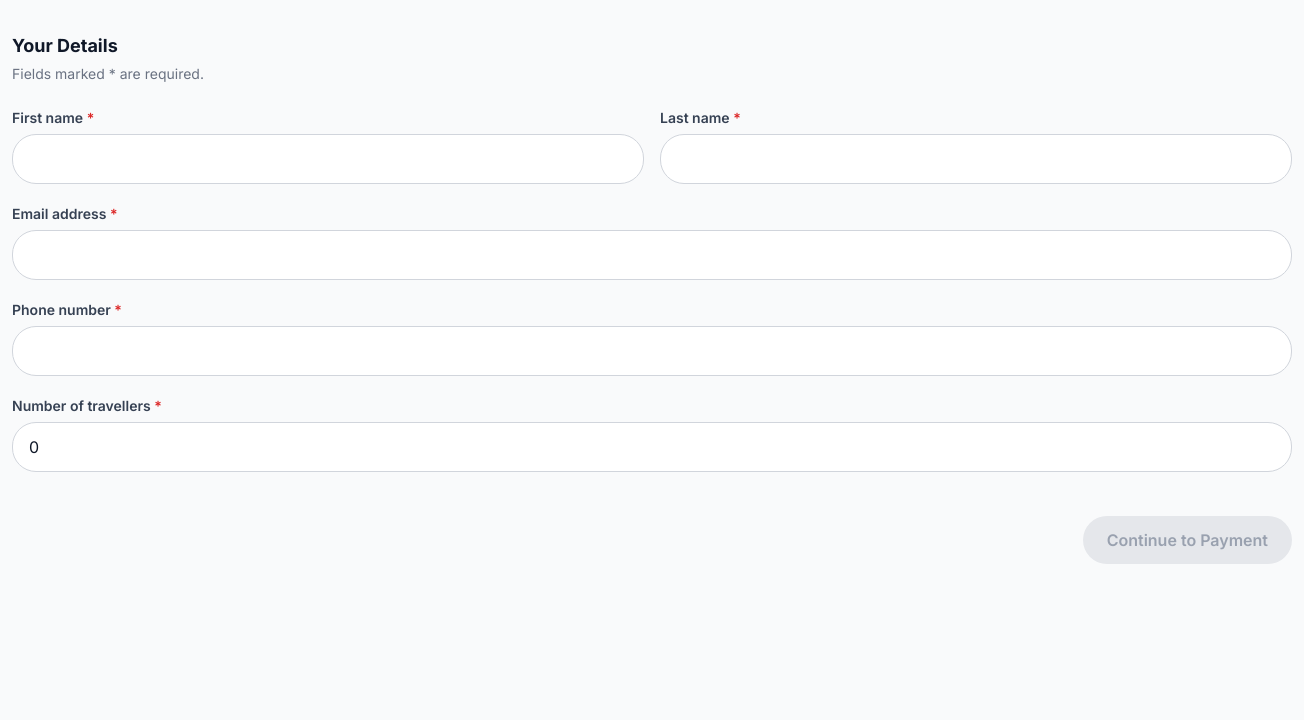
Scenario: TravellerForm › Validation errors — invalid values (button enabled, Zod fires on submit) › shows a phone format error for a too-short number string
Type "Jane" into the field labelled "First name *". click: (328, 159)
box: [12, 134, 644, 184]
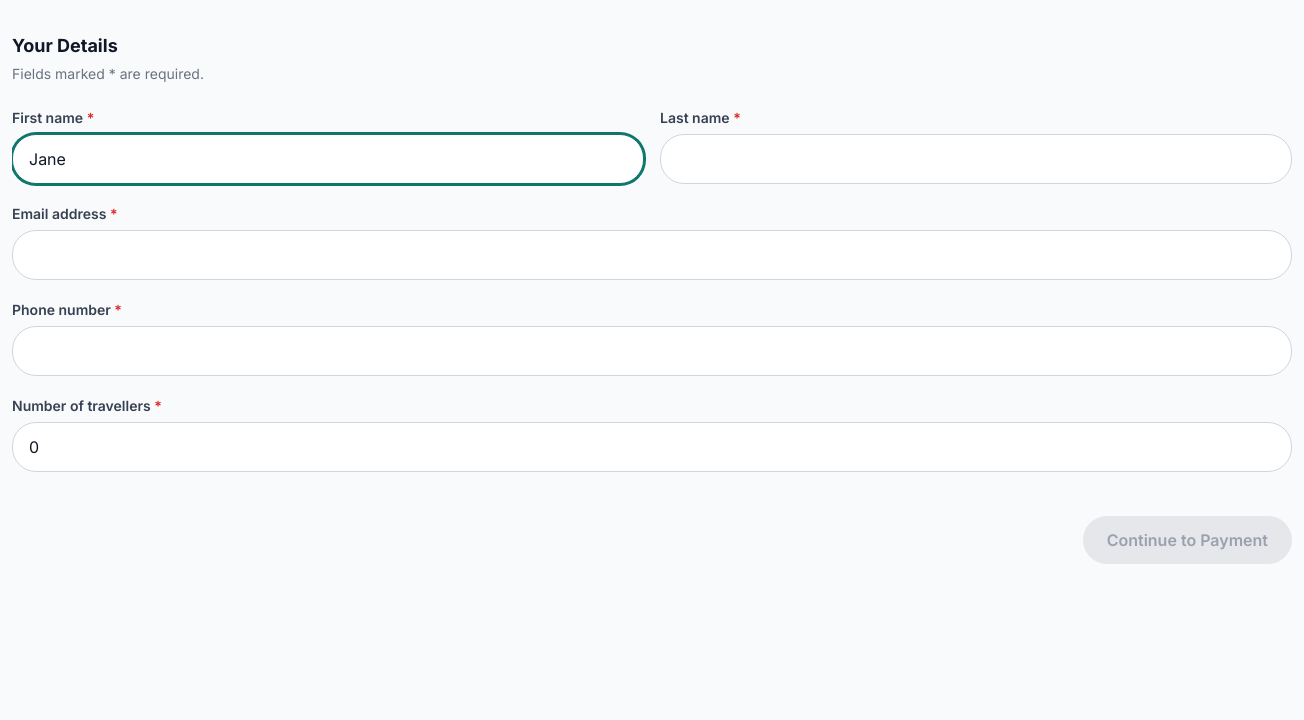
Type "Smith" into the field labelled "Last name *". click: (976, 159)
box: [660, 134, 1292, 184]
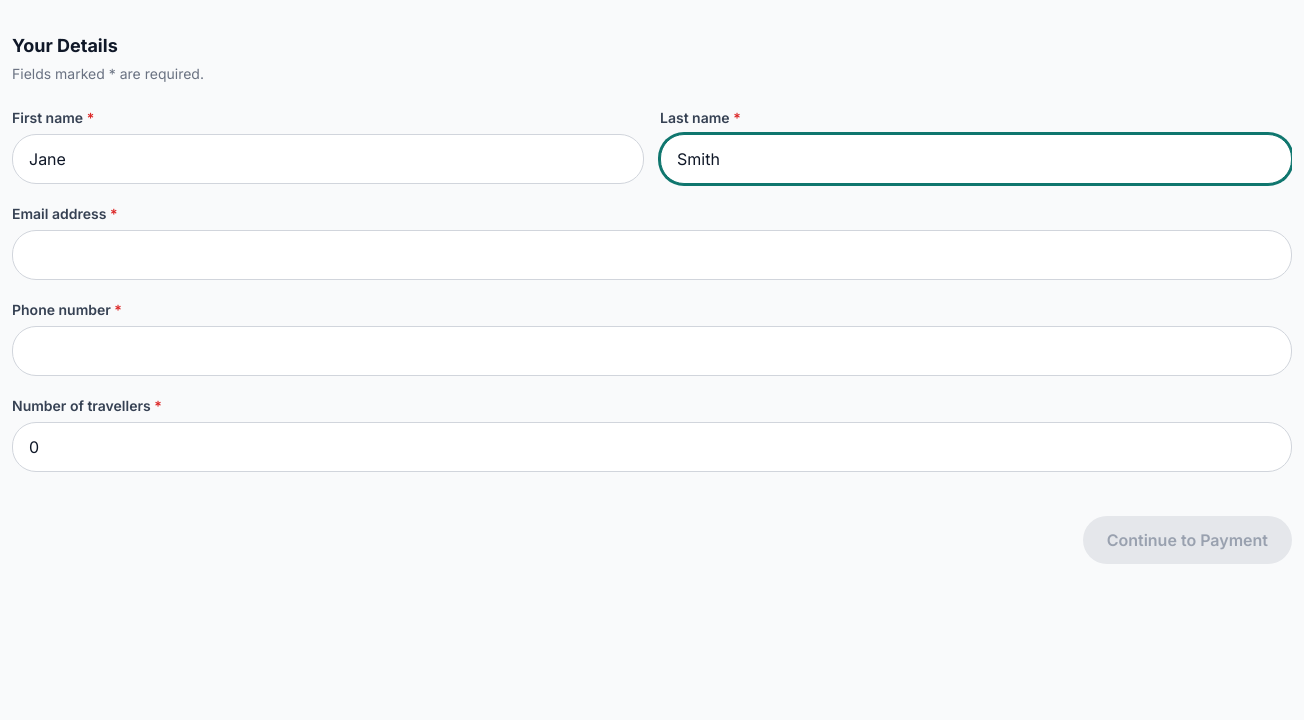
Type "jane@example.com" into the field labelled "Email address *". click: (652, 255)
box: [12, 230, 1292, 280]
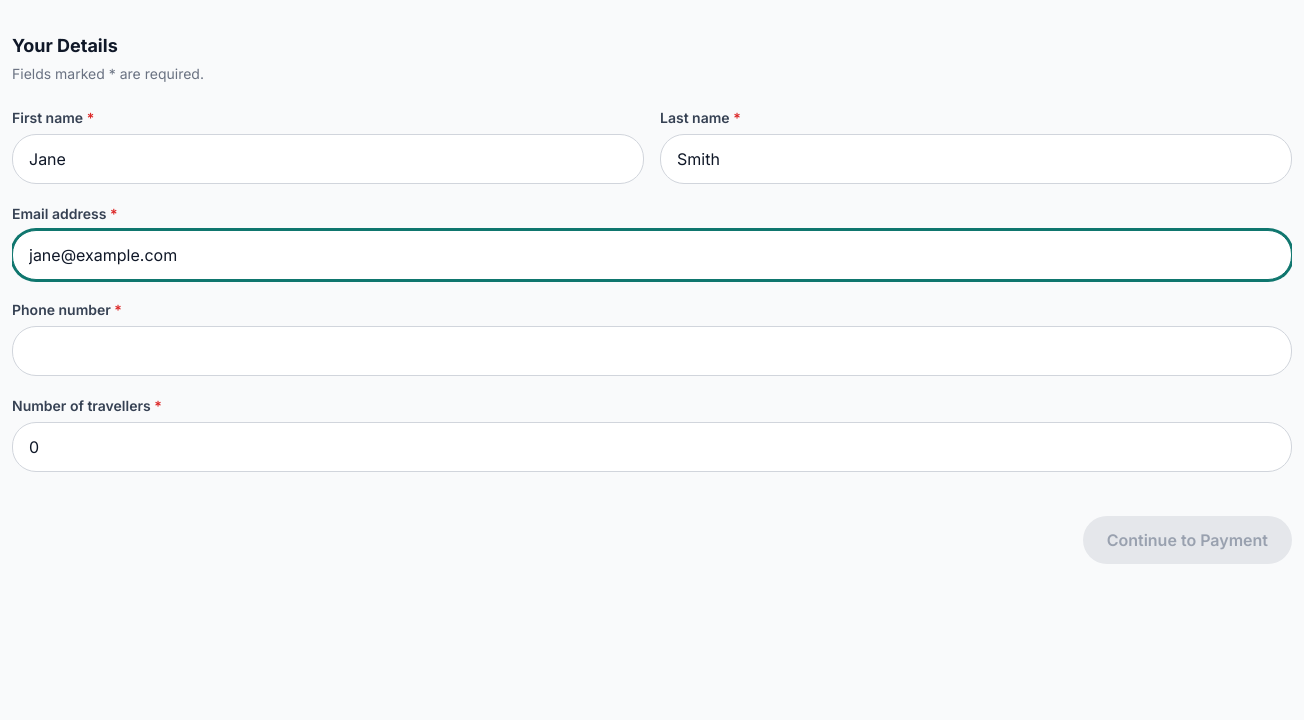
Type "abc" into the field labelled "Phone number *". click: (652, 351)
box: [12, 326, 1292, 376]
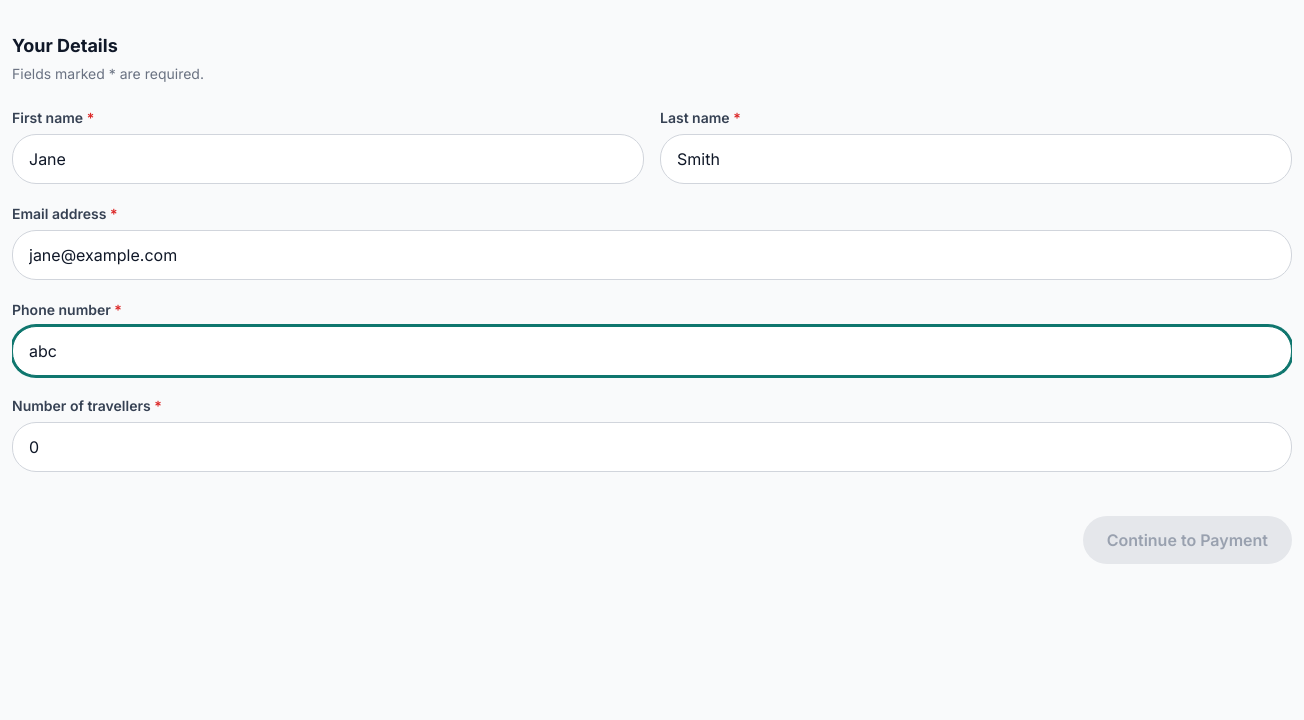
Replace the text in the number field labelled "Number of travellers *" with "2". click: (652, 447)
box: [12, 422, 1292, 472]
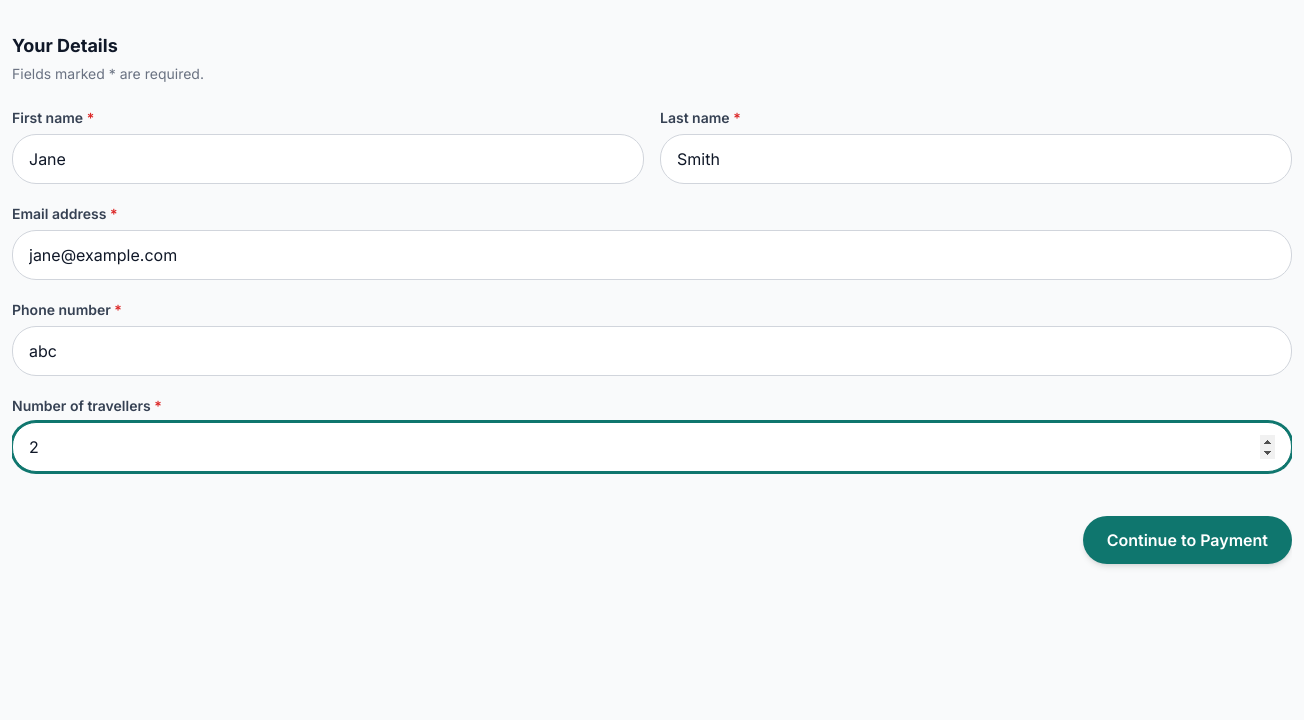
Click the button "Continue to Payment". click: (1187, 540)
box: [1083, 516, 1292, 564]
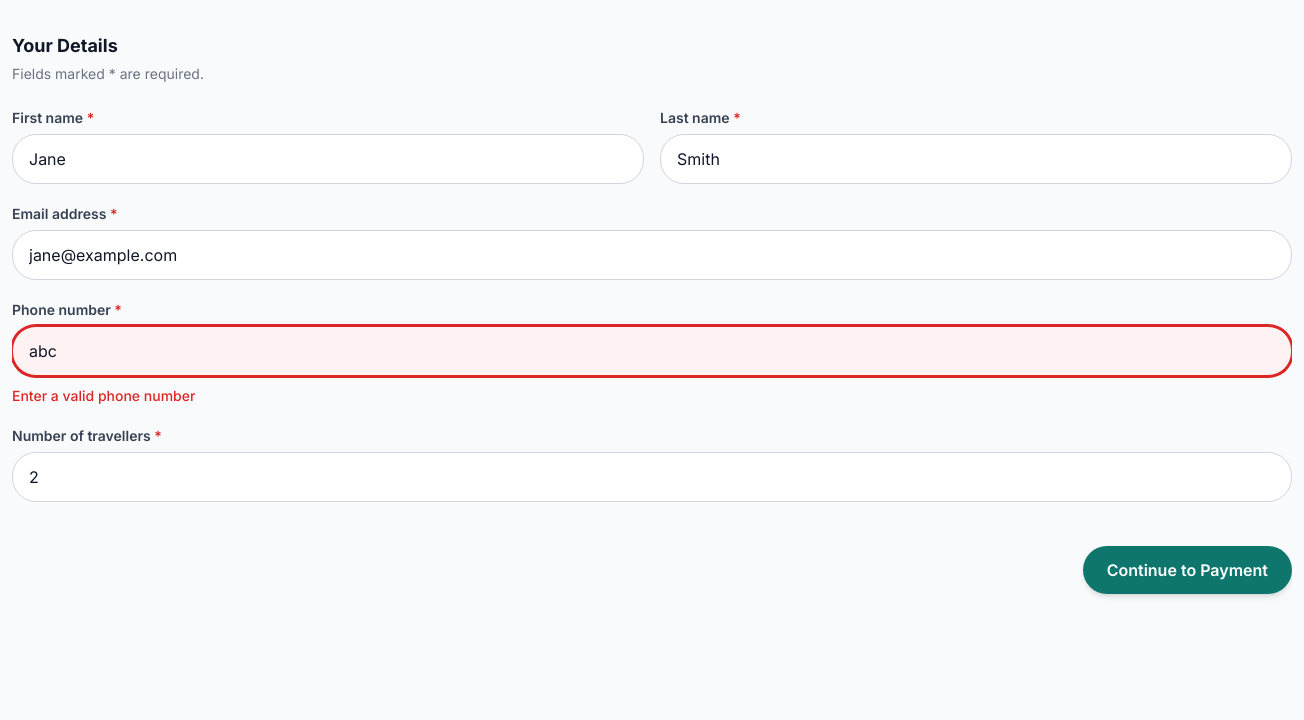
Check: the text "Enter a valid phone number" is shown, box [12, 387, 195, 404]
